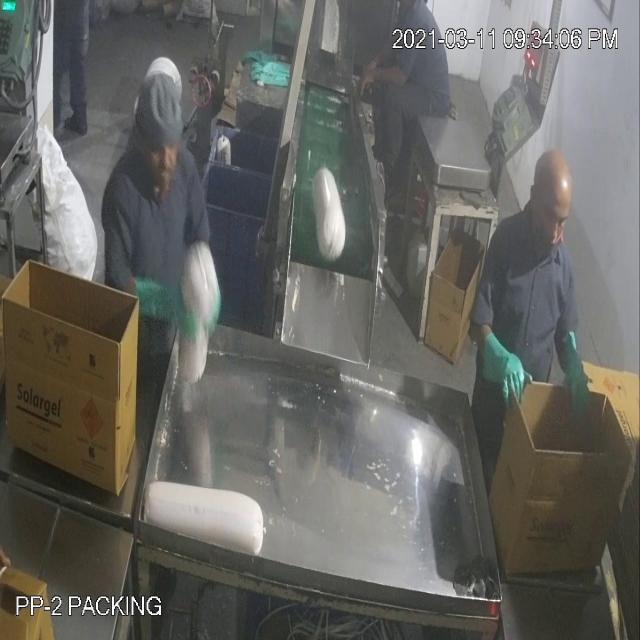Gloves: (40, 44, 579, 378)
